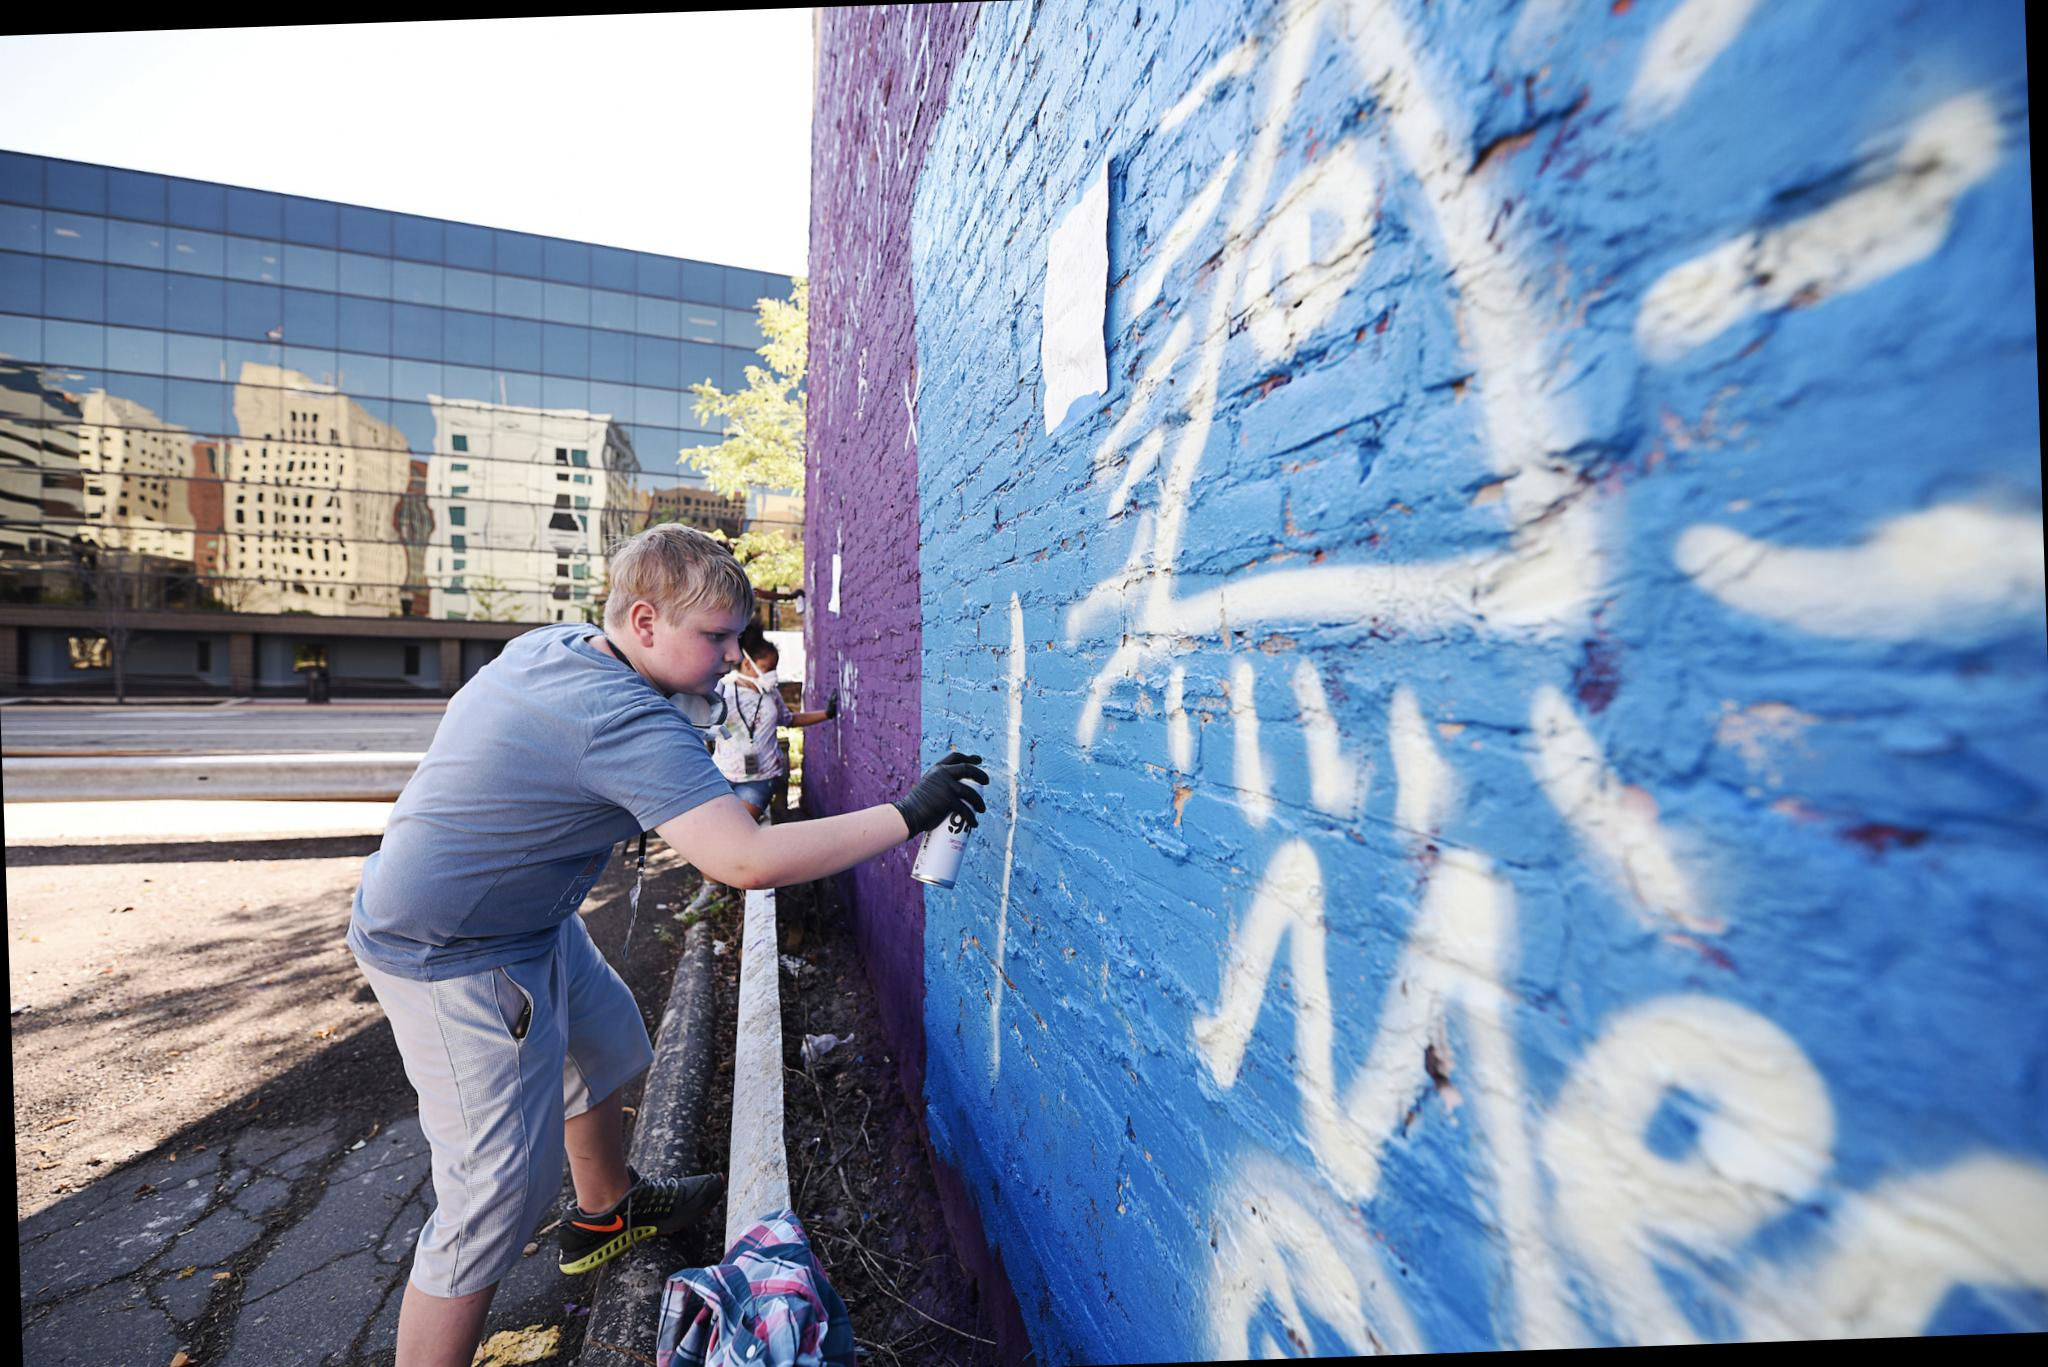graffiti: (1035, 0, 2048, 1364), (988, 590, 1026, 1086), (828, 650, 868, 772), (825, 542, 848, 619), (904, 362, 921, 455)
